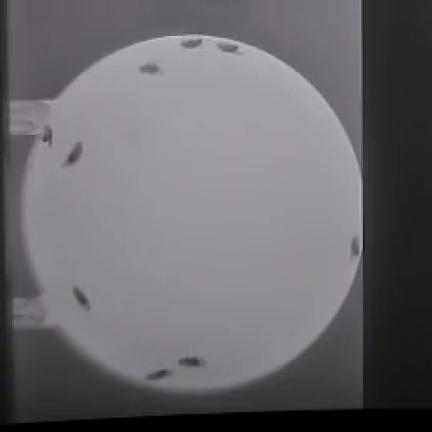fly: (64, 143, 82, 167), (73, 287, 91, 311), (147, 369, 171, 381), (178, 357, 205, 367), (218, 42, 240, 53), (140, 63, 160, 75), (42, 125, 53, 145), (182, 38, 203, 48), (351, 236, 361, 257)
